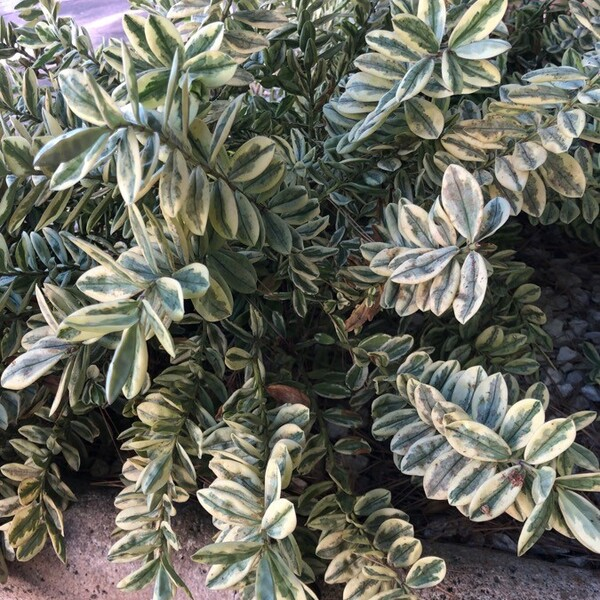obstacle: (33, 57, 553, 568)
